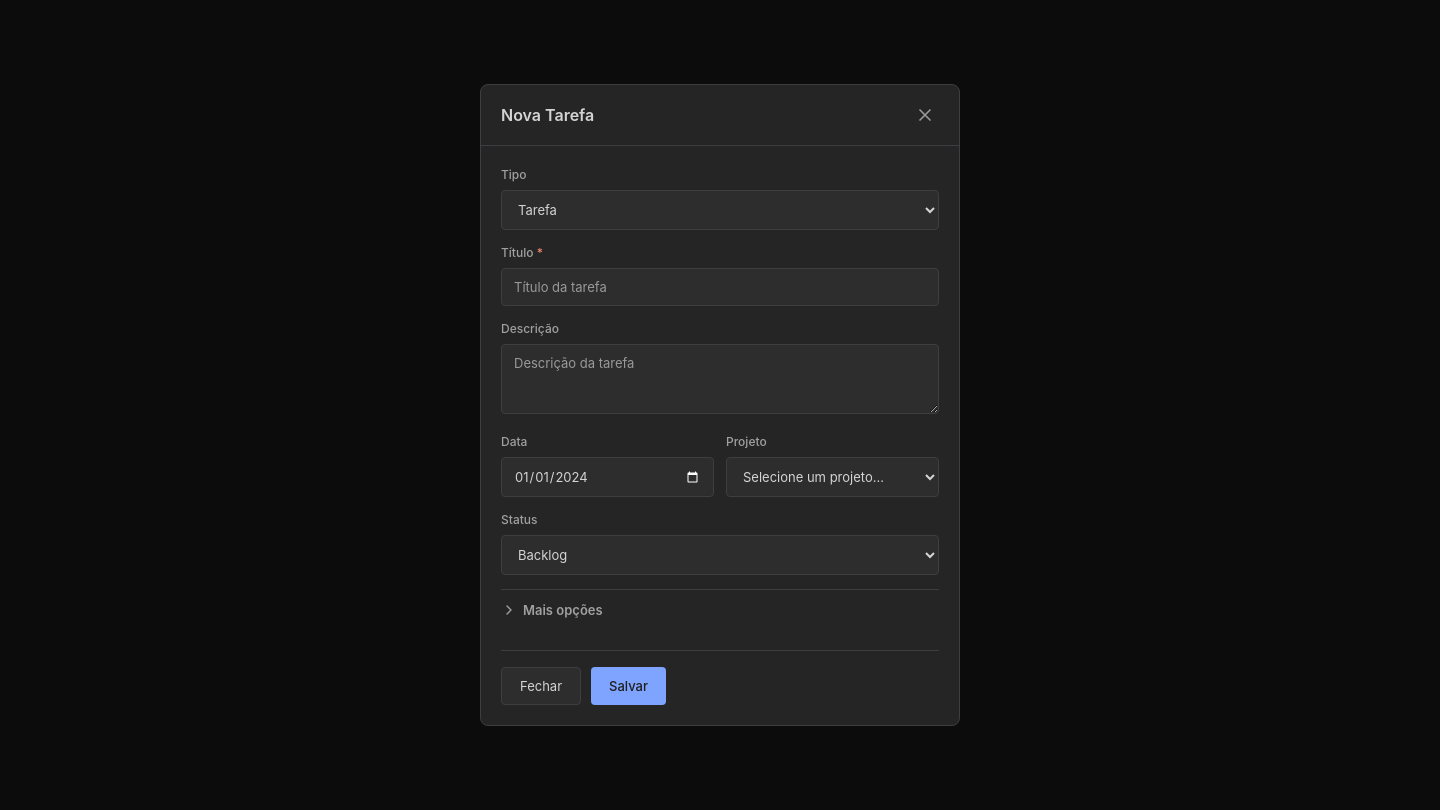
Test: TaskModal › exibe campos de appointment ao selecionar tipo Agendamento
Select "Agendamento" in the dropdown with test id "task-type-select" at (720, 210), box [501,190,939,230]
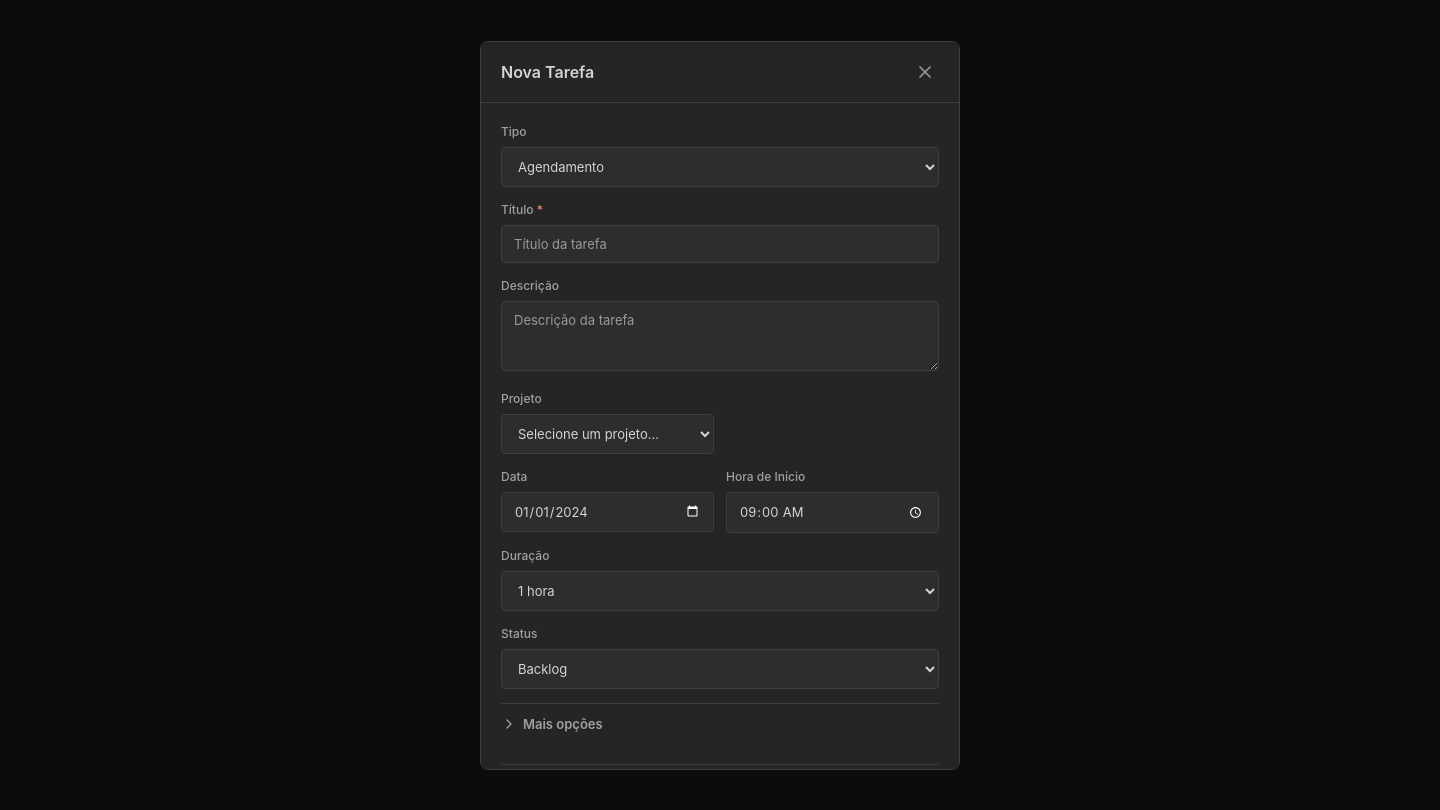
Expected: the date field with test id "appt-start-date" is shown, [501,492,714,532]
Expected: the time field with test id "appt-start-time" is shown, [726,492,939,533]
Expected: the dropdown with test id "appt-duration" is shown, [501,571,939,611]
